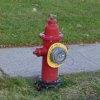a fire hydrant: (36, 15, 68, 88)
